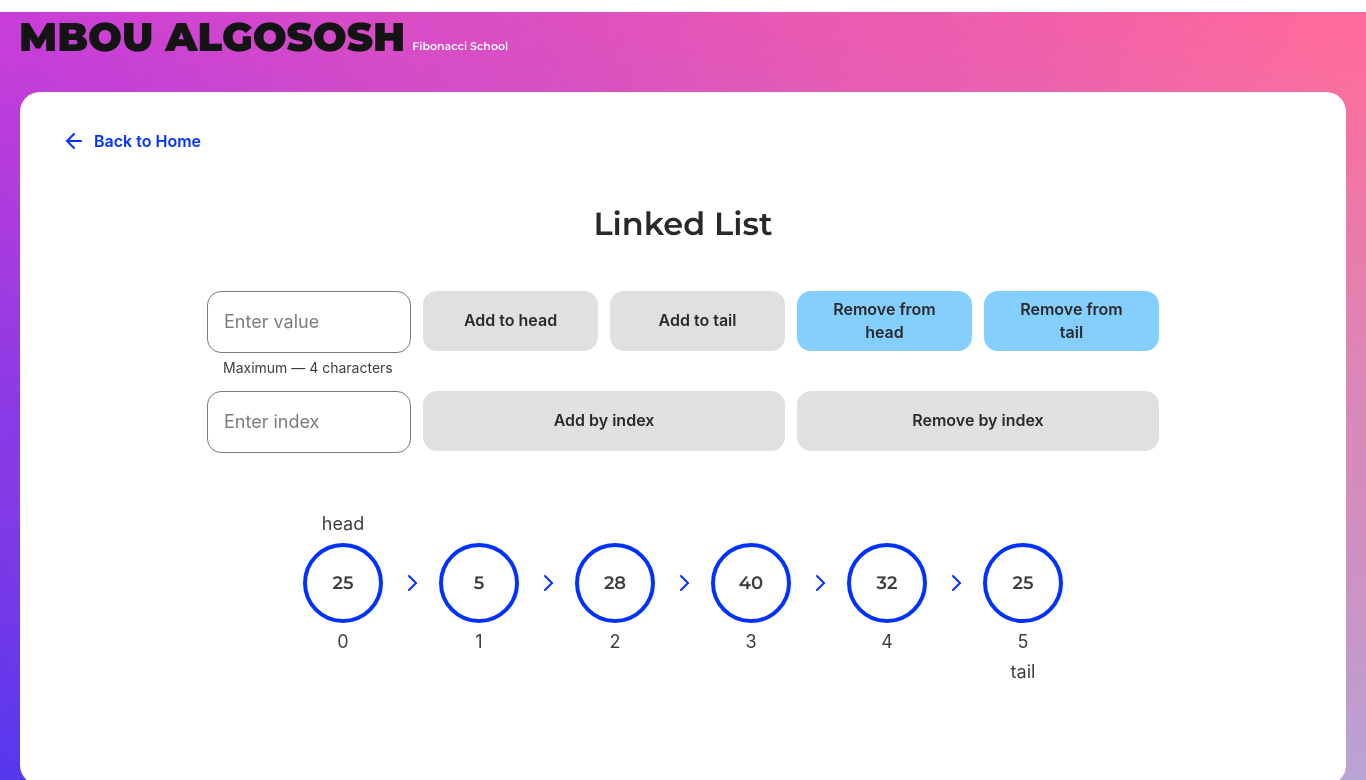
Testing Linked List › Deleting from Head is done correctly
The image size is (1366, 780).
Click the button with test id "deleteHeadBtn".
click(885, 321)  # box [797,291,972,351]
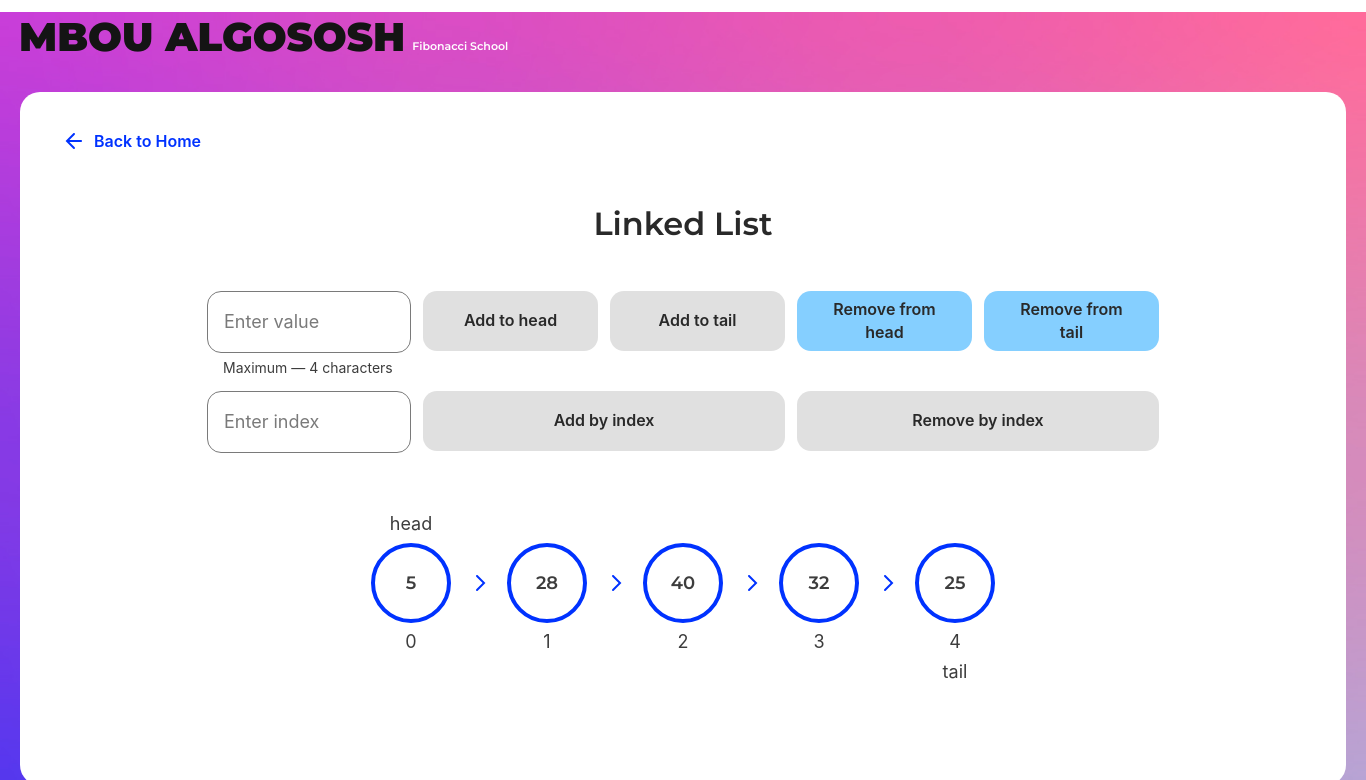
Check: the text "head" is shown, box [390,513,432,535]
Check: the number of elements with test id "circle" is 5, box [371,543,451,623]; [507,543,587,623]; [643,543,723,623]; [779,543,859,623]; [915,543,995,623]
